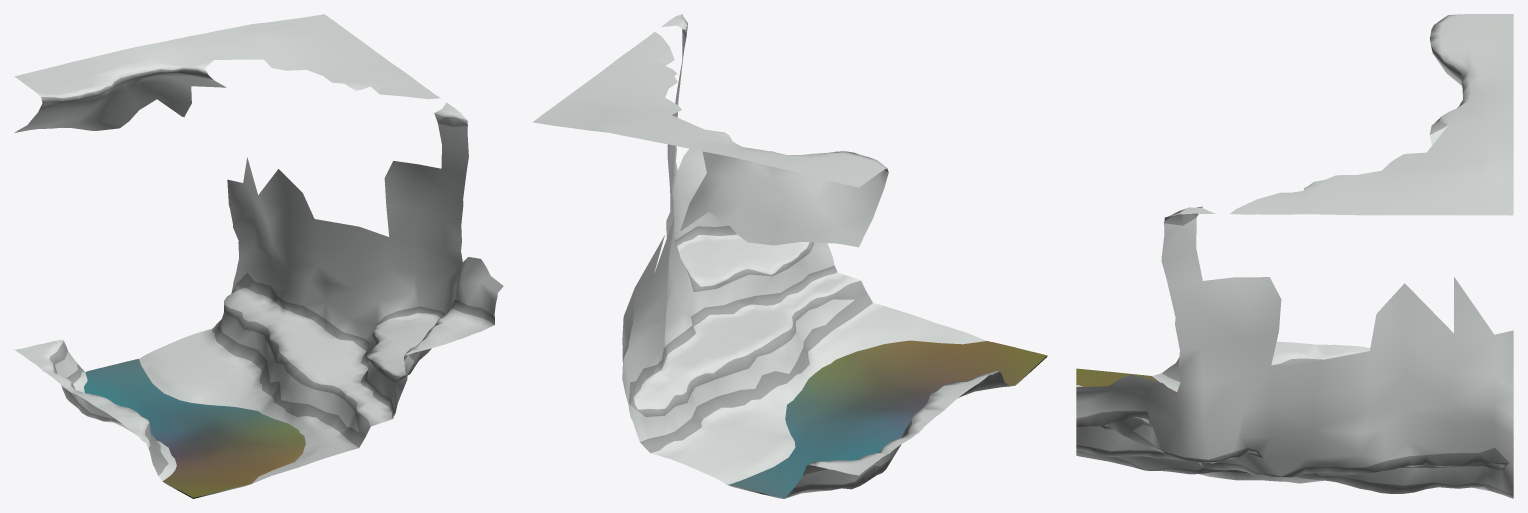
The picture shows the model from 3 angles, left to right: view 1: azimuth 30°, elevation 25°; view 2: azimuth 150°, elevation 25°; view 3: azimuth 270°, elevation 25°; orthographic projection. The views are drawn at different scales.
Visible parts, largest first — view 1: G:\FFXIV-MapTools\exports\r2f1\bg\ex1\01_roc_r2\fld\r2f1\bgp (×5); view 2: G:\FFXIV-MapTools\exports\r2f1\bg\ex1\01_roc_r2\fld\r2f1\bgp (×5); view 3: G:\FFXIV-MapTools\exports\r2f1\bg\ex1\01_roc_r2\fld\r2f1\bgp (×5).
Boxes of the visible parts, x1,y1,x2,y2 form: G:\FFXIV-MapTools\exports\r2f1\bg\ex1\01_roc_r2\fld\r2f1\bgp (×5): (14, 14, 503, 497); G:\FFXIV-MapTools\exports\r2f1\bg\ex1\01_roc_r2\fld\r2f1\bgp (×5): (532, 14, 1047, 498); G:\FFXIV-MapTools\exports\r2f1\bg\ex1\01_roc_r2\fld\r2f1\bgp (×5): (1076, 14, 1513, 498).
Bounding box in the file's own units: 128 × 124 × 128.
